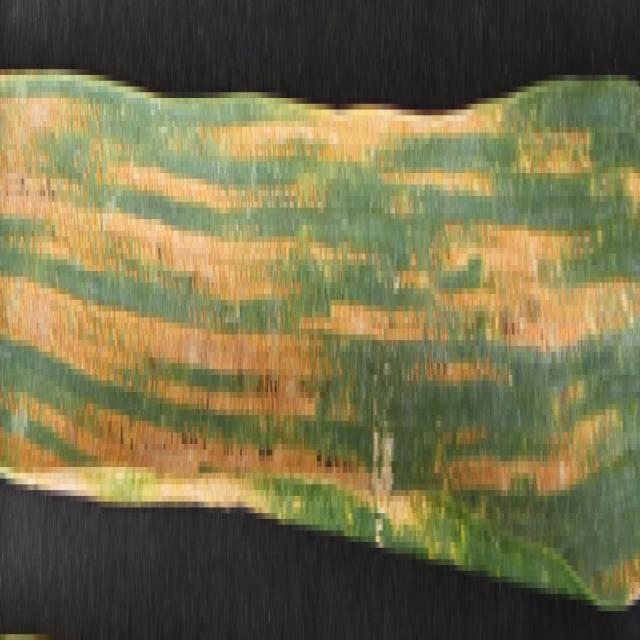leaf rust: (1, 69, 638, 600)
